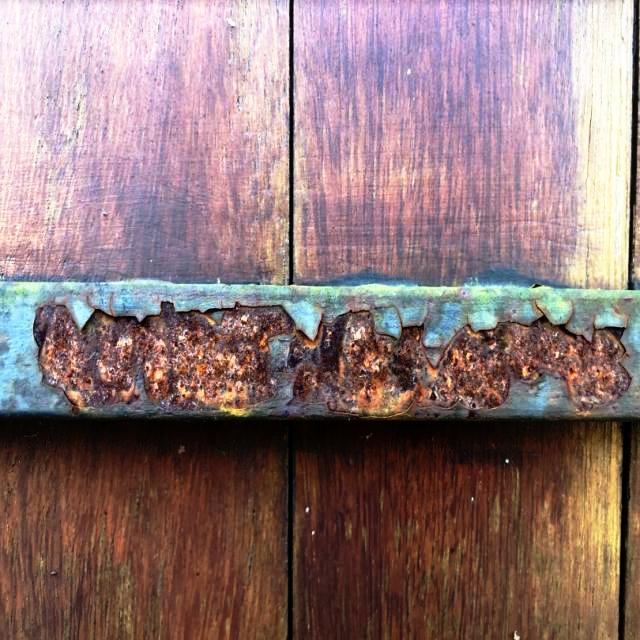Corrosion: (24, 289, 636, 422)
